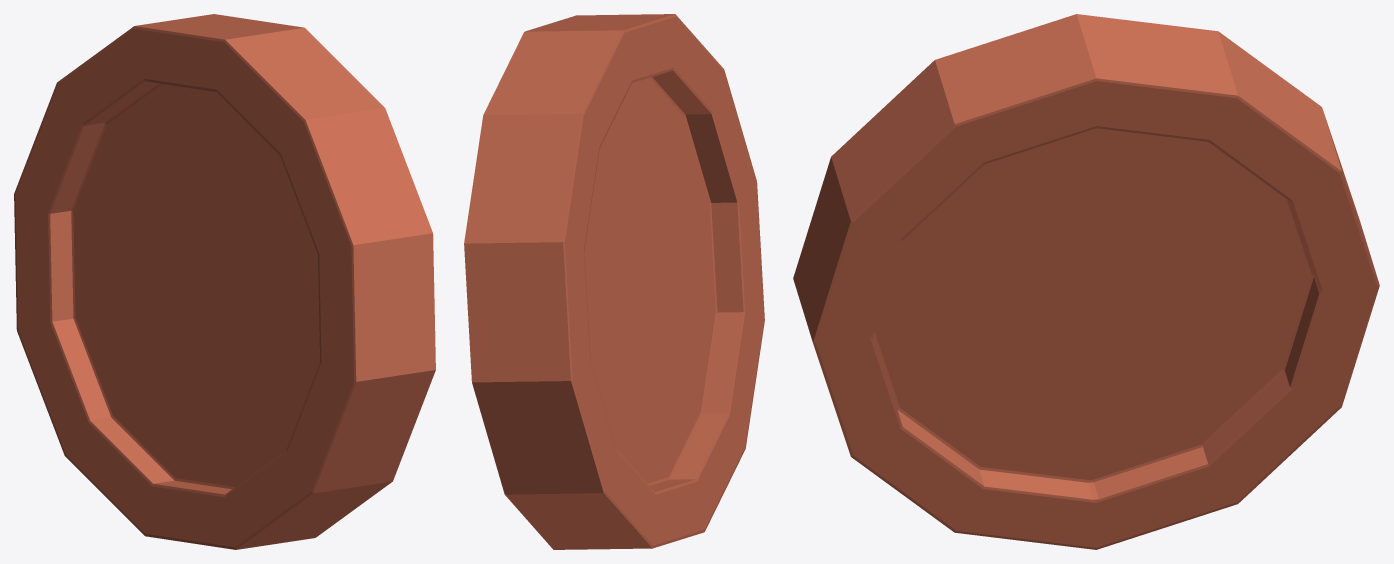
The model's file is CoinCopper.fbx.
The picture shows the model from 3 angles, left to right: view 1: azimuth 30°, elevation 25°; view 2: azimuth 150°, elevation 25°; view 3: azimuth 270°, elevation 25°; orthographic projection. The views are drawn at different scales.
Parts seen in each view (by area): view 1: Cilindro; view 2: Cilindro; view 3: Cilindro.
Boxes of the visible parts, bbox=[...] form: Cilindro: bbox=[14, 14, 435, 549]; Cilindro: bbox=[464, 14, 764, 549]; Cilindro: bbox=[793, 14, 1379, 549].
Size of the model in its own units: 85.58 by 204 by 204.
